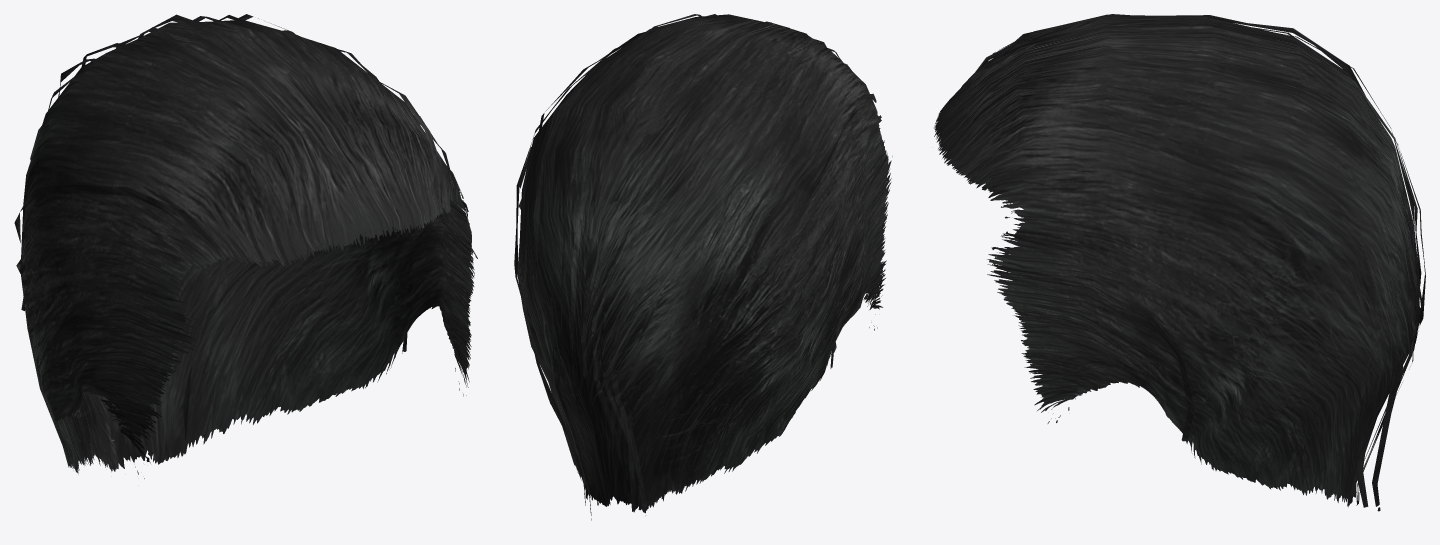
The model's file is mh_short04.glb.
3 views of the same model, side by side, from view 1: azimuth 30°, elevation 25°; view 2: azimuth 150°, elevation 25°; view 3: azimuth 270°, elevation 25° (orthographic). The views are drawn at different scales.
Parts seen in each view (by area): view 1: mh_short04; view 2: mh_short04; view 3: mh_short04.
Part boxes in pixels (left/top/right/bottom): mh_short04: left=14, top=14, right=477, bottom=478; mh_short04: left=514, top=14, right=892, bottom=520; mh_short04: left=934, top=14, right=1425, bottom=511.
Size of the model in its own units: 0.1621 by 0.2191 by 0.206.
1 material, 1 textured.
